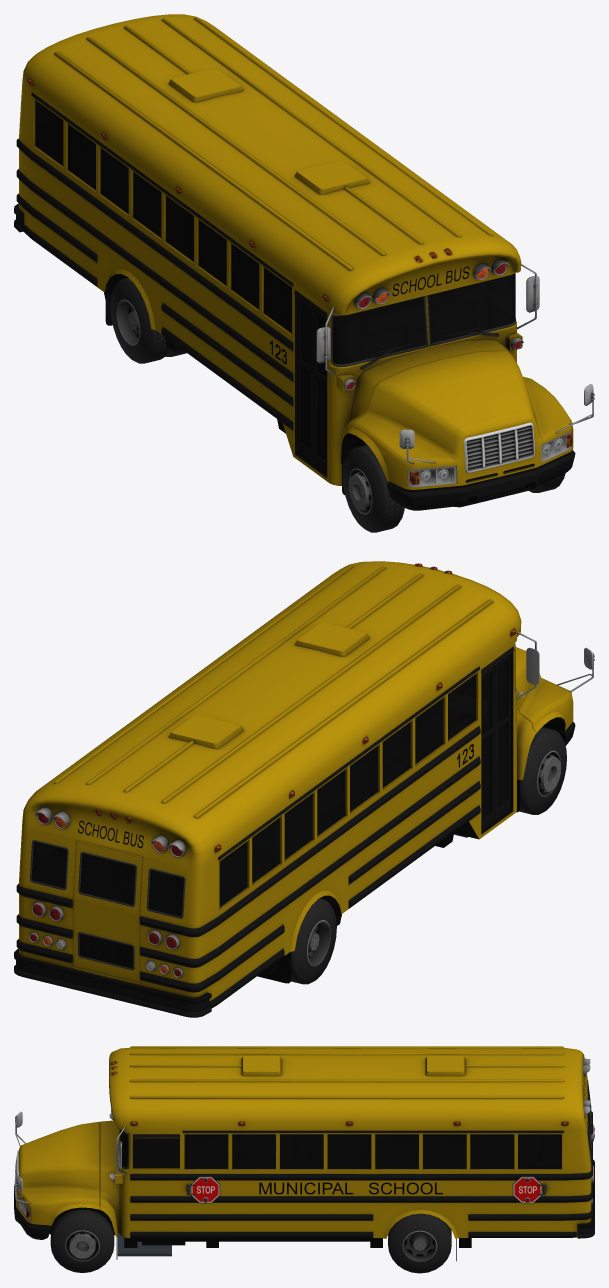
File: schoolbus.glb
3 renders of one model, top to bottom at view 1: azimuth 30°, elevation 25°; view 2: azimuth 150°, elevation 25°; view 3: azimuth 270°, elevation 25°, orthographic. The views are drawn at different scales.
Visible parts, largest first — view 1: Body (×2), Door skin and glass (×3), TyreRim (×2), Lamp head; view 2: Body (×3), TyreRim (×2), Door skin and glass (×2), Lamp brake; view 3: Body (×3), Door skin and glass (×2), TyreRim (×2), Cabin floor.
Boxes of the visible parts, x1=… form: Body (×2): x1=14, y1=14, x2=594, y2=510; Door skin and glass (×3): x1=300, y1=255, x2=539, y2=485; TyreRim (×2): x1=110, y1=277, x2=404, y2=532; Lamp head: x1=346, y1=248, x2=572, y2=484; Body (×3): x1=14, y1=561, x2=594, y2=1017; TyreRim (×2): x1=291, y1=727, x2=566, y2=984; Door skin and glass (×2): x1=482, y1=619, x2=539, y2=833; Lamp brake: x1=30, y1=809, x2=221, y2=976; Body (×3): x1=14, y1=1046, x2=594, y2=1261; Door skin and glass (×2): x1=118, y1=1118, x2=179, y2=1247; TyreRim (×2): x1=50, y1=1209, x2=451, y2=1273; Cabin floor: x1=117, y1=1233, x2=171, y2=1256.
Size of the model in its own units: 2.58 by 2.7 by 8.
7 materials, 6 textured.
